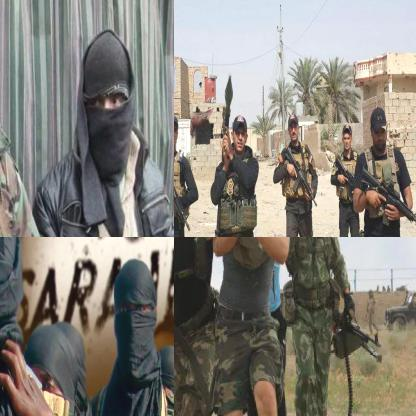rifle: (331, 307, 392, 378), (360, 161, 415, 235), (283, 140, 320, 214), (174, 151, 191, 236), (216, 66, 234, 136), (331, 154, 357, 194)
